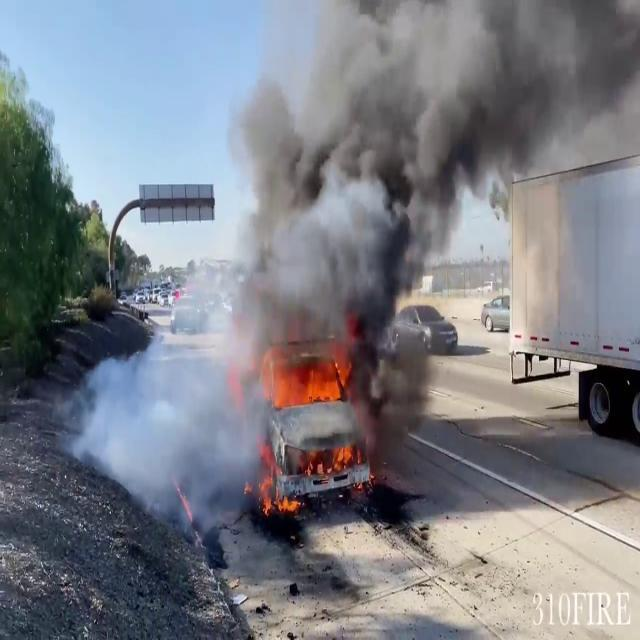Fire: (259, 342, 355, 412)
Smoke: (200, 0, 640, 456), (76, 273, 310, 517)
